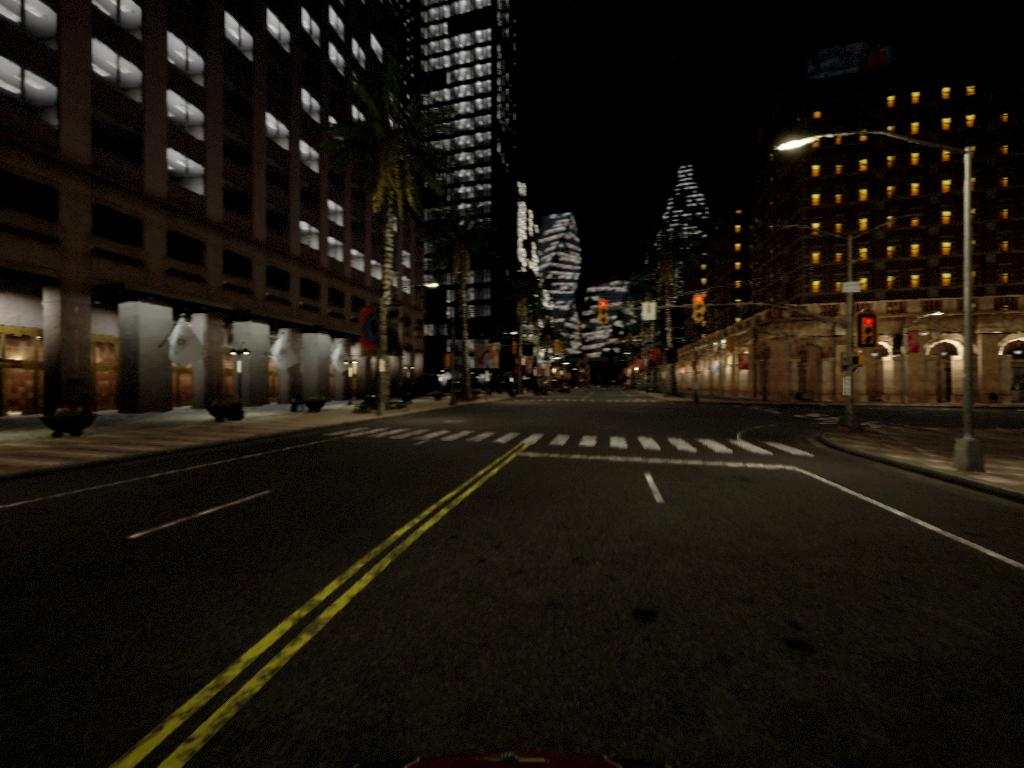traffic_light: (862, 314, 881, 348), (695, 297, 710, 325), (599, 300, 609, 327)
